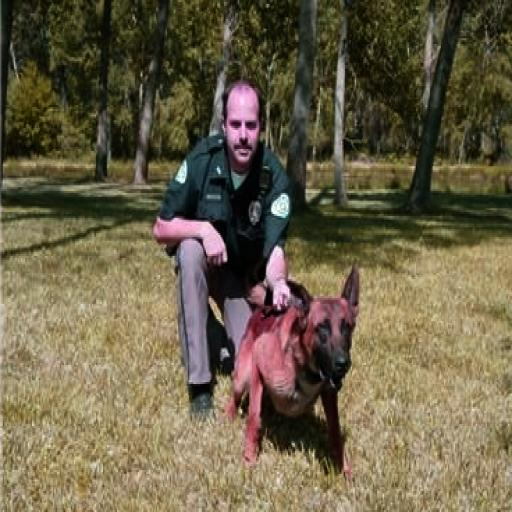dog_face: (289, 268, 362, 387)
